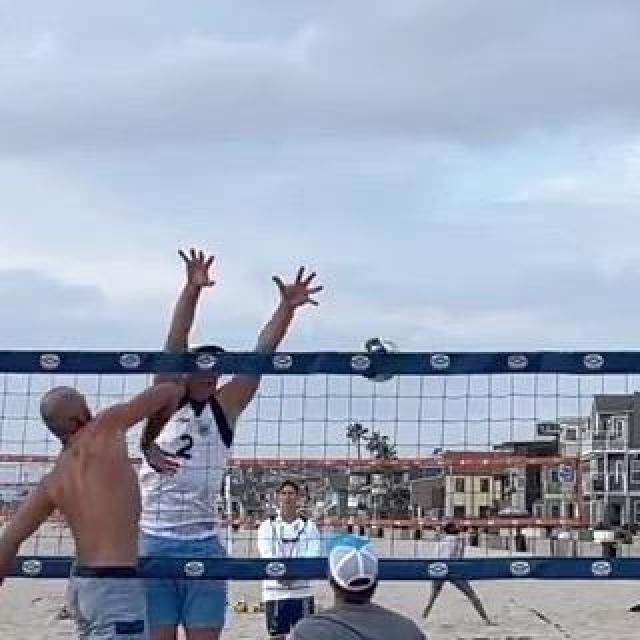volleyball: (358, 335, 400, 383)
